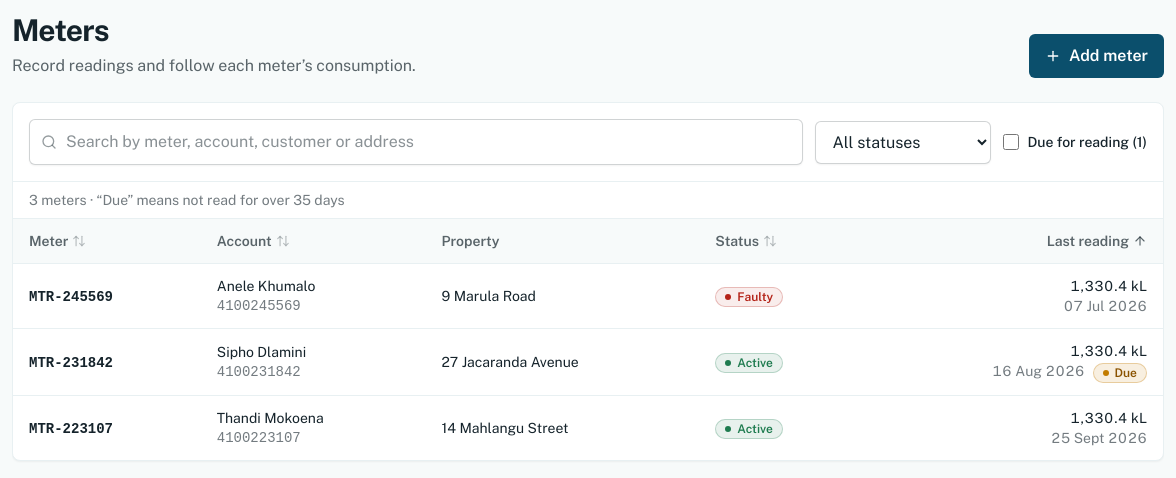
MetersPage › searches by customer name
The image size is (1176, 478).
Expected: the text "3 meters · “Due” means not read for over 35 days" is shown, [13,182,1163,219]
In the search field: x=416, y=142 [29,119,804,165], type "anele"
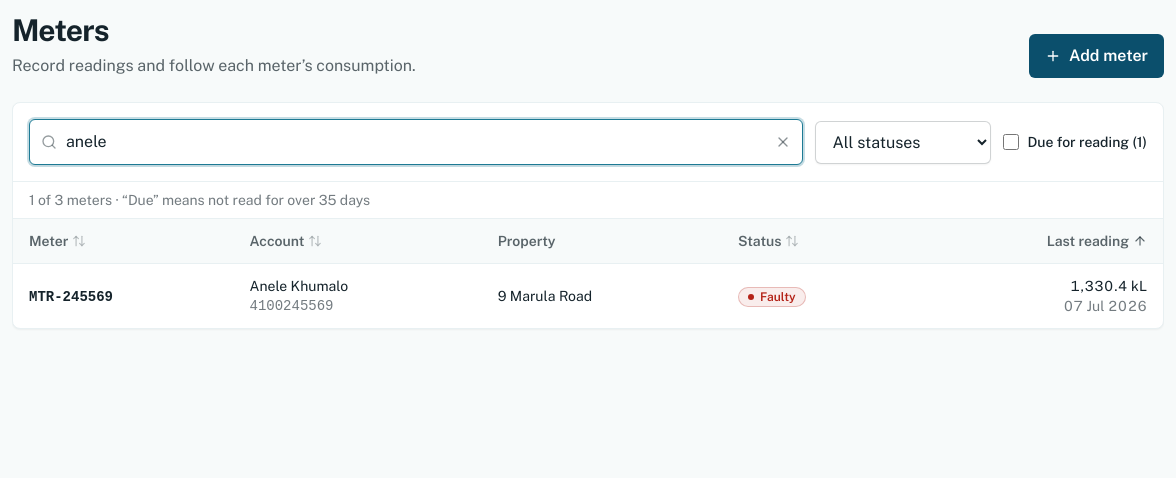
Now the text "1 of 3 meters · “Due” means not read for over 35 days" is shown, box [13,182,1163,219]
